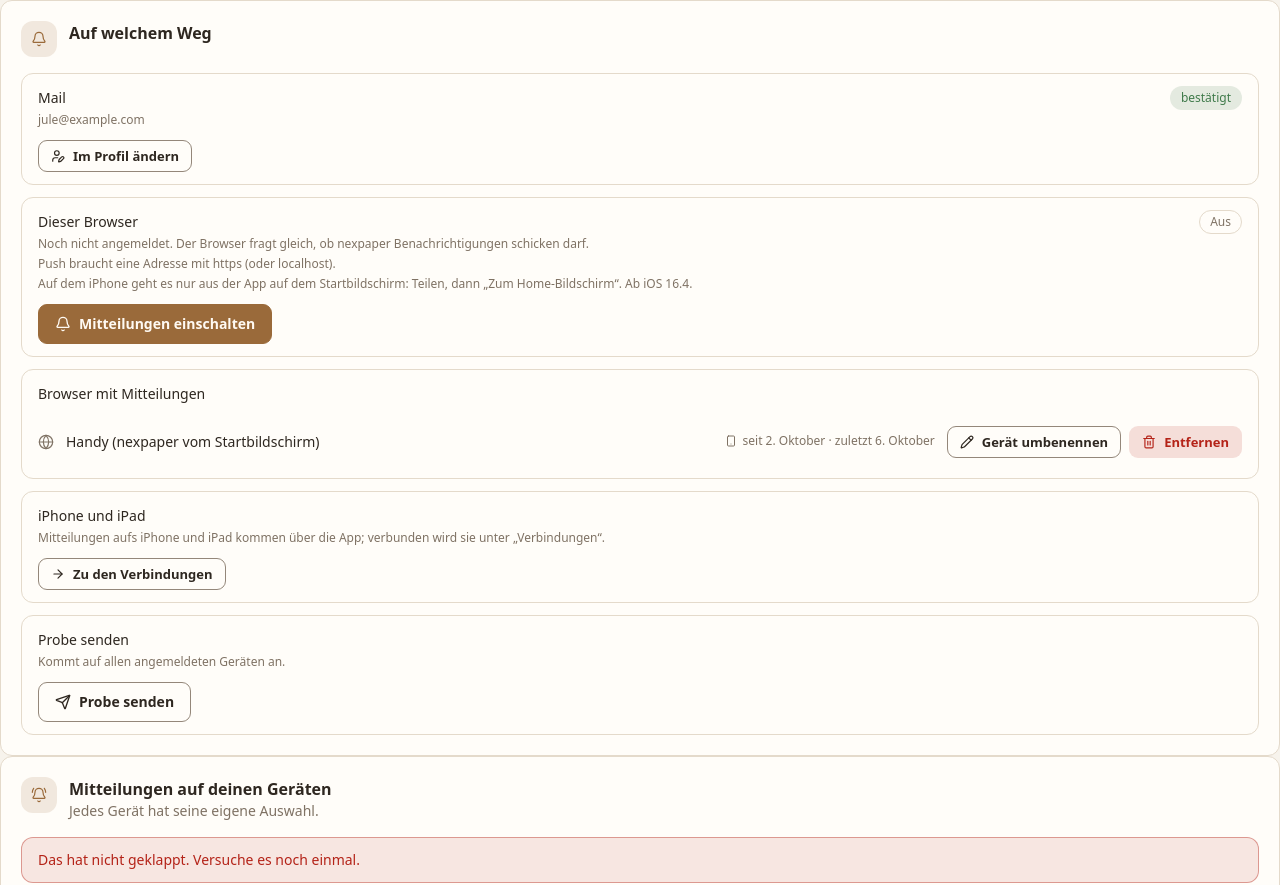
Scenario: the devices, in "Auf welchem Weg" › lists the own devices with since and last, and signs this browser up with the server key
expect the element that starts with "Auf welchem Weg" shows "Handy (nexpaper vom Startbildschirm)": met, box 66,432 -> 320,451
expect the element with test id "push-here" shows "Noch nicht angemeldet.": met, box 38,235 -> 589,252
Click the button with test id "notify-browser-on": (155, 324) 38,304 -> 272,344
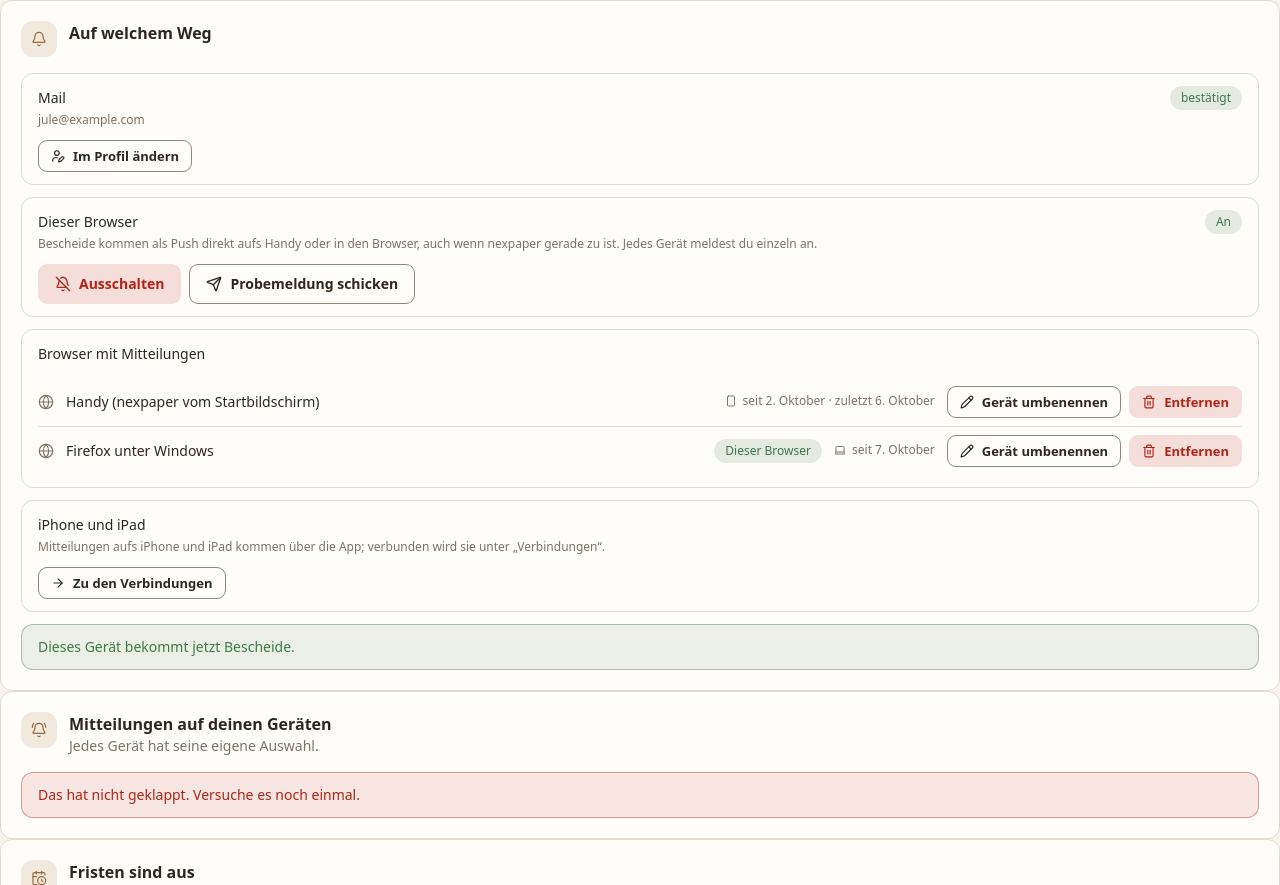
expect the text "Dieses Gerät bekommt jetzt Bescheide." is shown: met, box 38,637 -> 295,656
expect the list item with test id "notify-browser-row" shows "Dieser Browser": met, box 725,442 -> 811,459
expect the text with test id "push-here" no longer shows "Noch nicht angemeldet.": met
